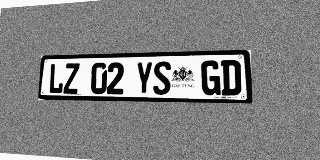0: (90, 62, 107, 94)
2: (107, 62, 124, 94)
D: (221, 60, 241, 96)
G: (201, 60, 221, 95)
L: (48, 63, 64, 94)
S: (153, 61, 171, 95)
Y: (135, 61, 153, 95)
Z: (63, 63, 80, 94)
